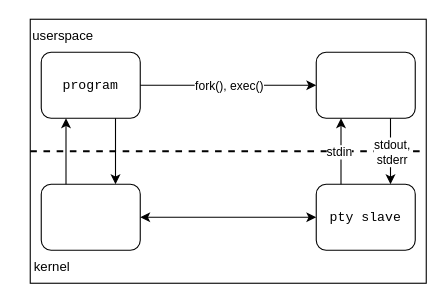
This 447x303 diagram has some shape labels left out. Each missing label, with the centre of its shape:
pty master: pixel 90 216
terminal-program: pixel 365 84
